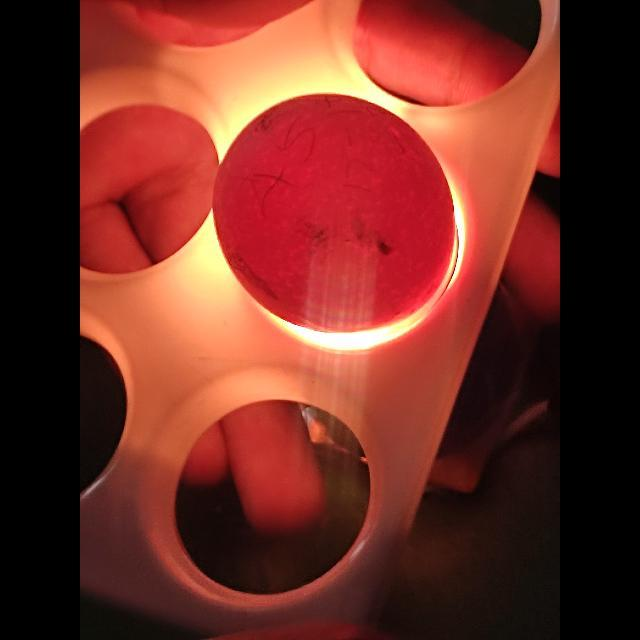Infertile: (215, 89, 458, 338)
